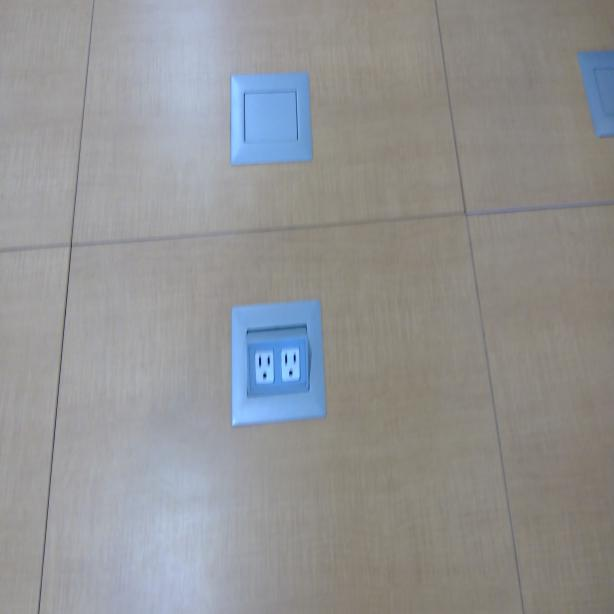typeb: (253, 350, 276, 386), (280, 350, 300, 381)
